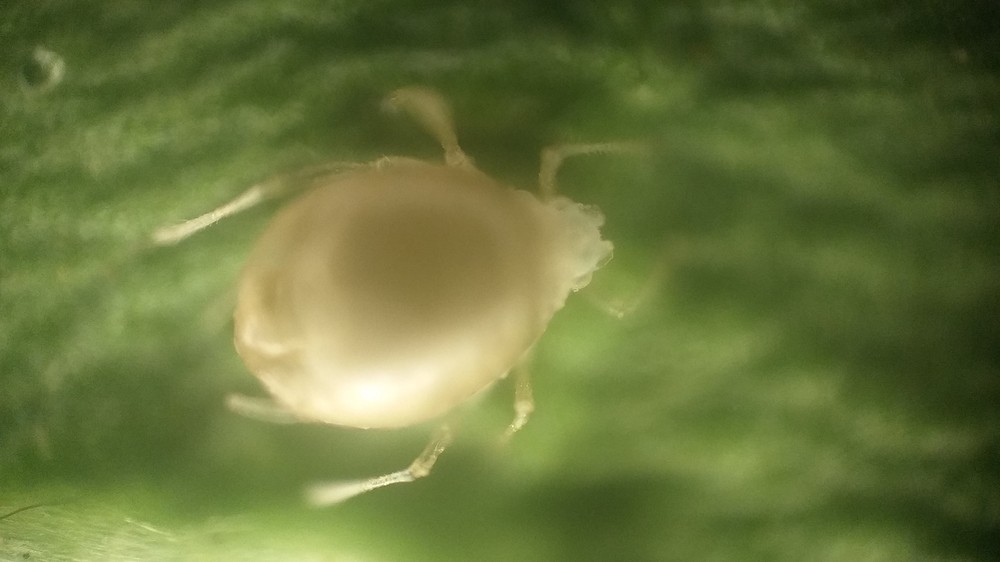Pulgon: (150, 76, 699, 526)
